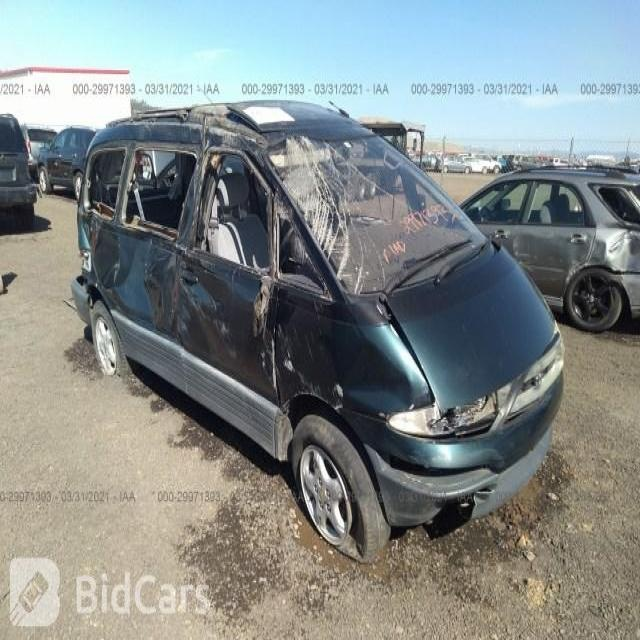Van: (38, 69, 580, 570)
